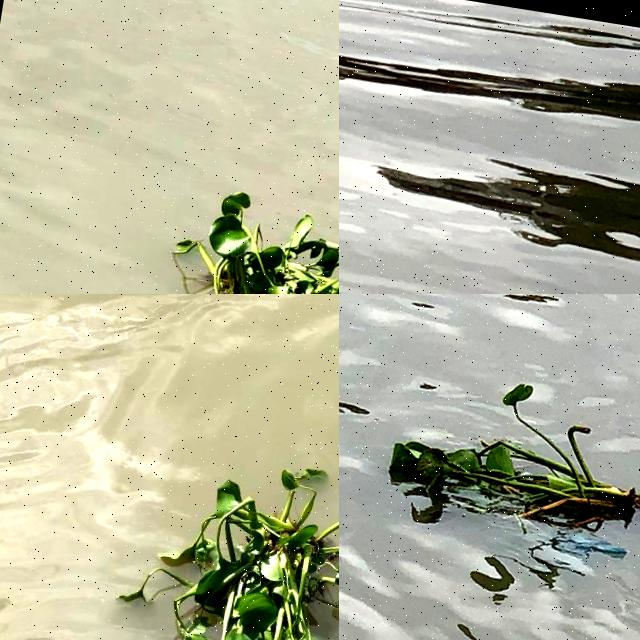water-hyacinth: (372, 358, 640, 545), (128, 441, 340, 640), (154, 179, 340, 295)
